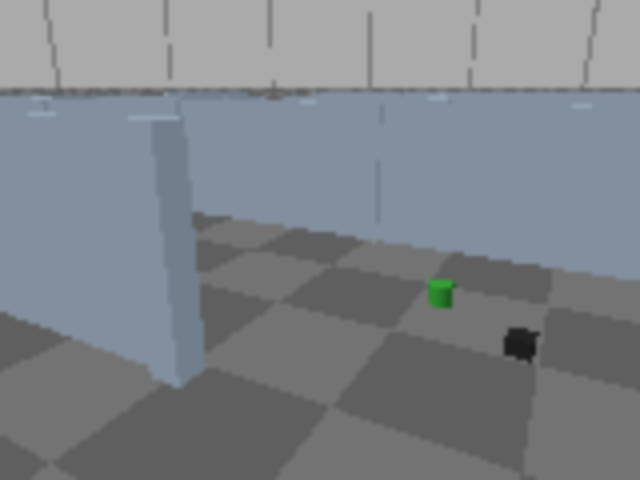puck: (503, 326, 539, 362), (428, 278, 453, 308)
